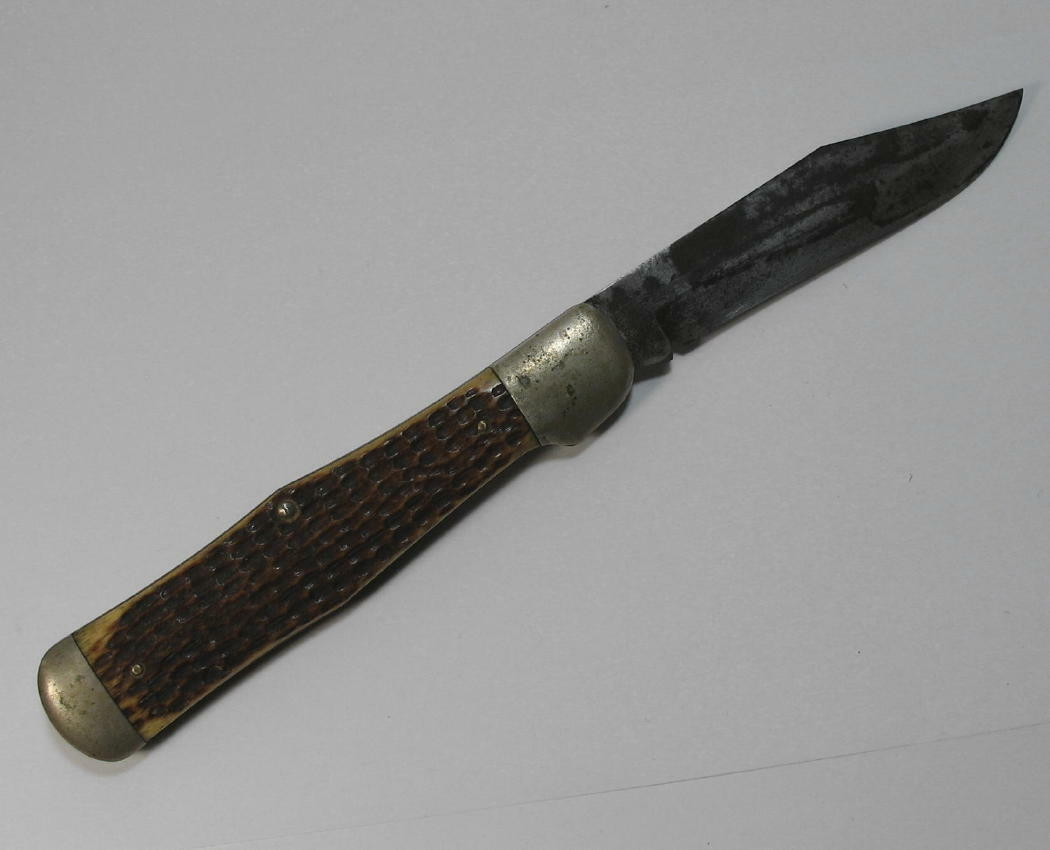knief: (31, 49, 1041, 773)
